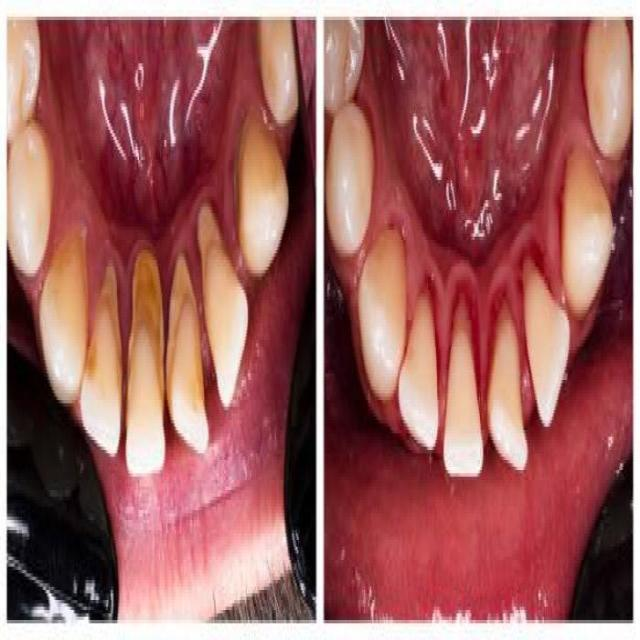CALCULUS: (134, 256, 161, 330), (88, 328, 101, 381), (55, 231, 70, 269)
